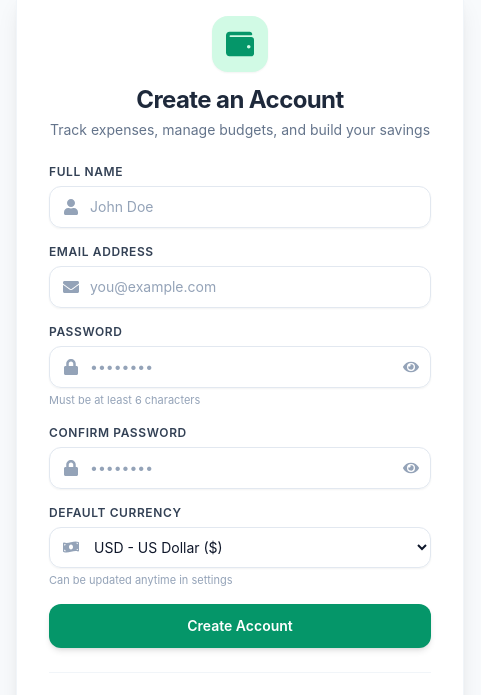
RegisterPage Component › displays server error message when registration fails
Type "Bob Johnson" into the field labelled "Full Name" at (240, 207), box [49,186,431,228]
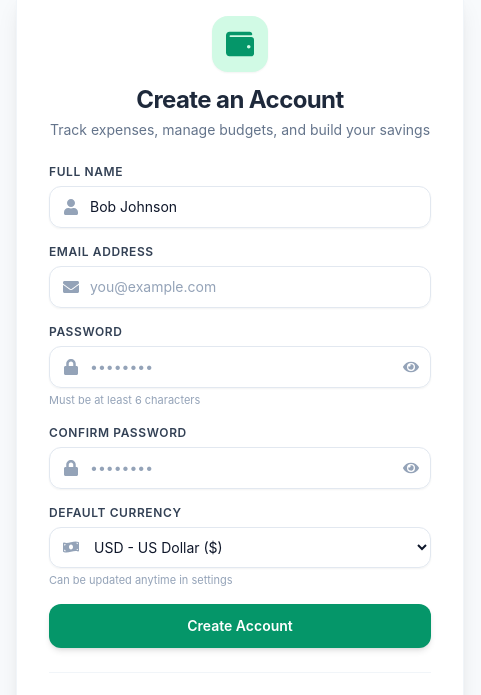
Type "existing@example.com" into the field labelled "Email Address" at (240, 287), box [49,266,431,308]
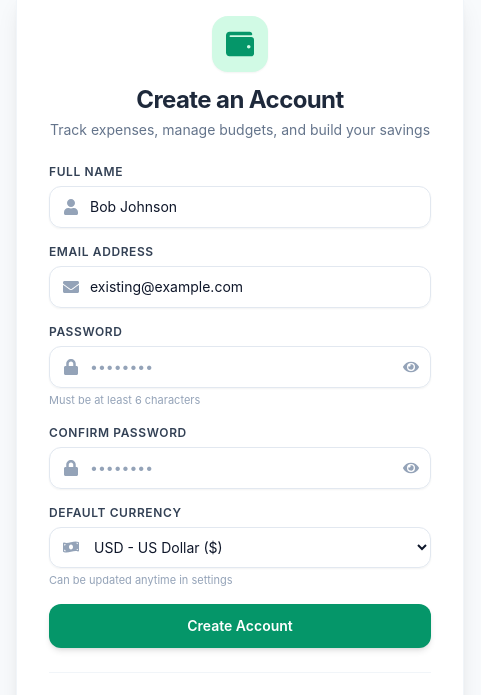
Type "securePass123" into the password field with test id "register-password-input" at (240, 367), box [49,346,431,388]
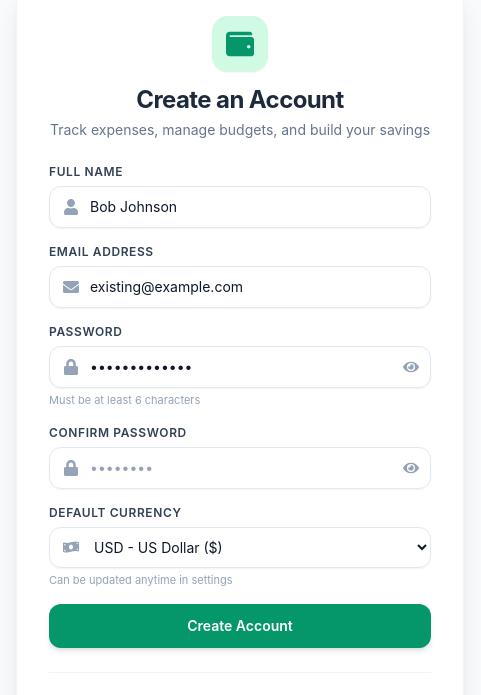
Type "securePass123" into the password field with test id "register-confirm-password-input" at (240, 468), box [49,446,431,488]
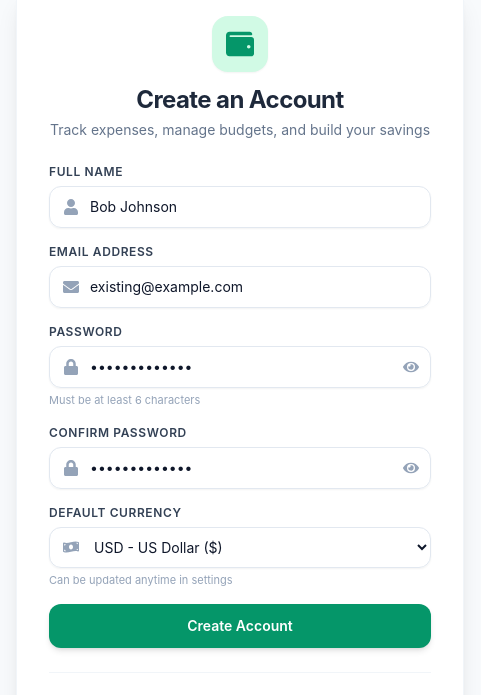
Click the button "Create Account" at (240, 626), box [49,604,431,648]
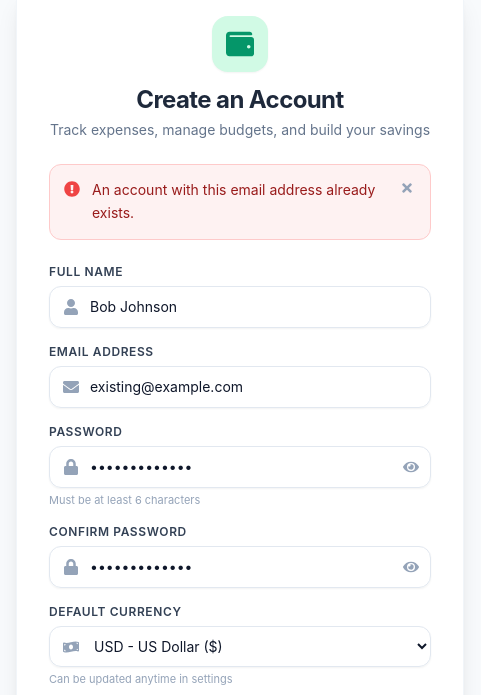
Result: the message "An account with this email address already exists." is shown at [49,164,431,240]
Result: the text "An account with this email address already exists." is shown at [92,179,382,224]
